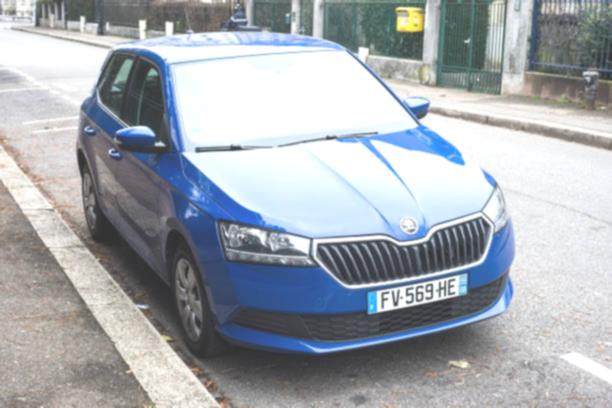skoda: (395, 210, 423, 242)
